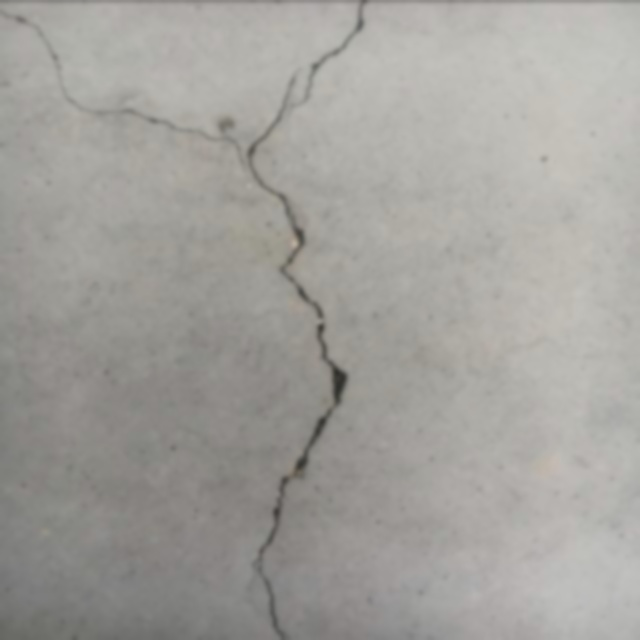SurfaceCrack: (189, 1, 381, 640)
